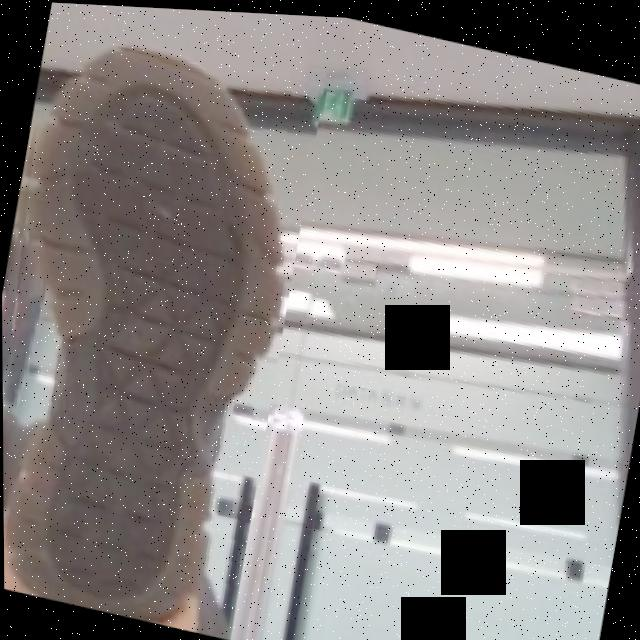shoe: (0, 0, 331, 640)
